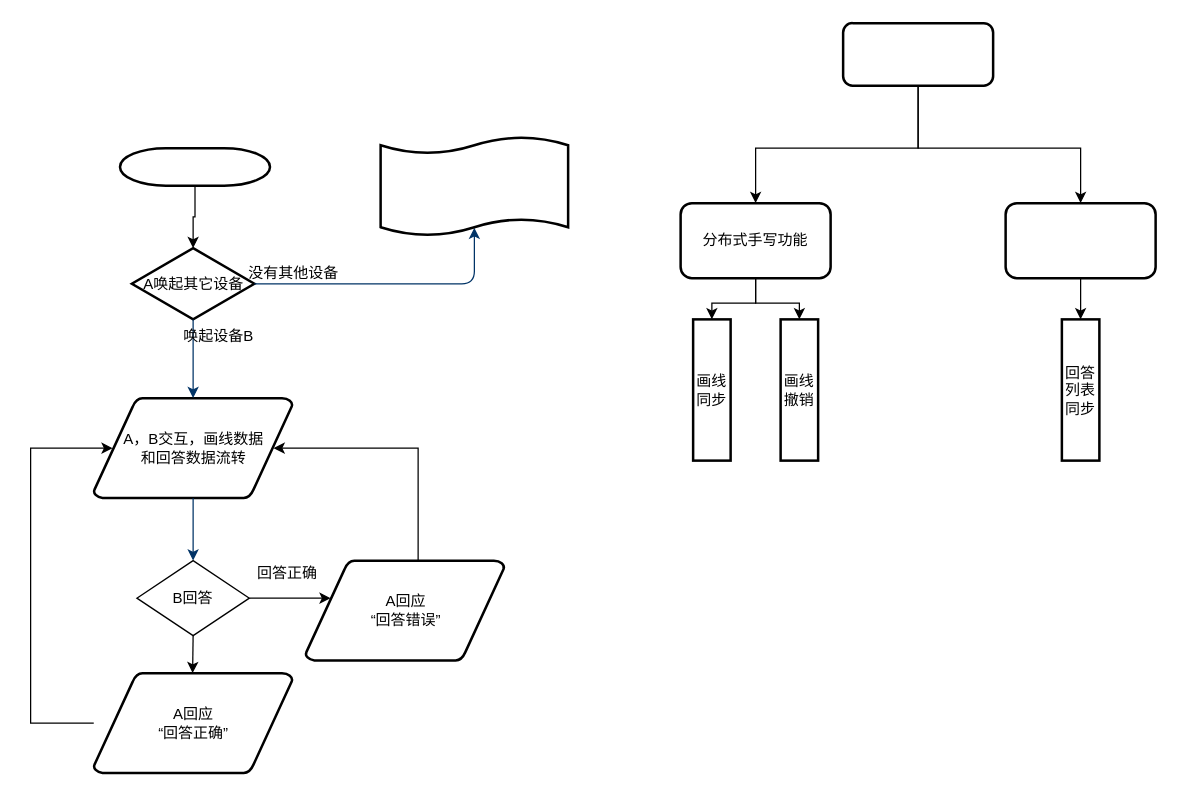
Image size: 1179x795. Some labels were removed from this diagram. Here are the shapes that lost their labels. From the top down, the centre of each, then its label:
the point at 917,53: 你画我猜应用
the point at 194,166: A设备启动
the point at 474,186: 进入单机模式
the point at 1080,240: 分布式回答
